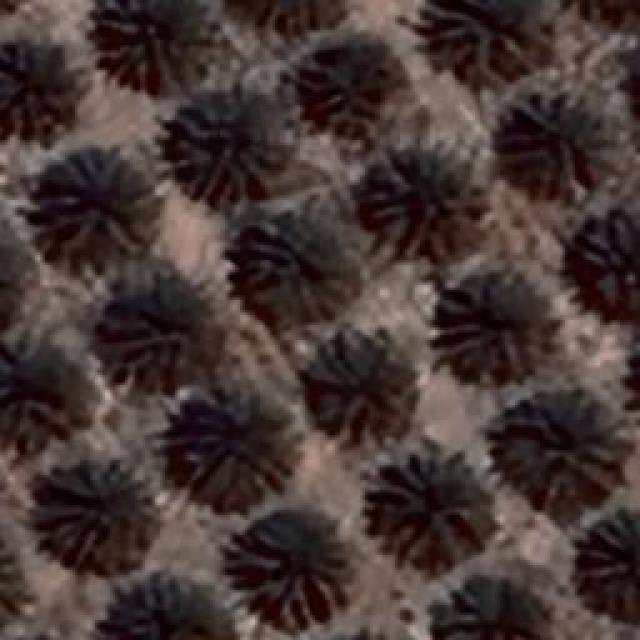PalmTree: (362, 440, 490, 568), (227, 512, 355, 630), (498, 386, 618, 506), (360, 142, 485, 255), (185, 385, 300, 500), (165, 95, 280, 205), (305, 330, 413, 442), (40, 460, 160, 560), (238, 220, 352, 320), (46, 162, 154, 266), (430, 278, 542, 378), (95, 0, 215, 92), (500, 90, 602, 195), (112, 282, 215, 376), (298, 49, 402, 139), (430, 571, 562, 640), (420, 0, 530, 80), (98, 575, 226, 640), (0, 355, 80, 440), (0, 44, 78, 126), (220, 0, 362, 42), (580, 216, 640, 312), (582, 510, 638, 608), (553, 0, 640, 34), (0, 536, 31, 628), (322, 618, 416, 640)
